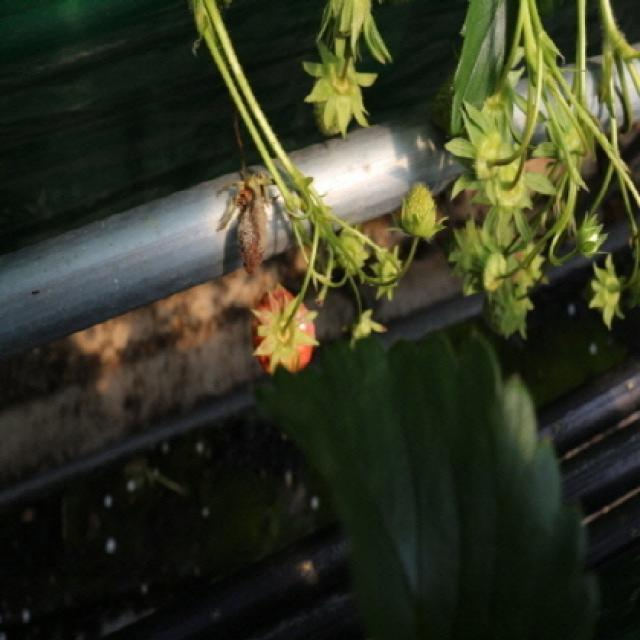Gray Mold: (229, 169, 280, 277)
